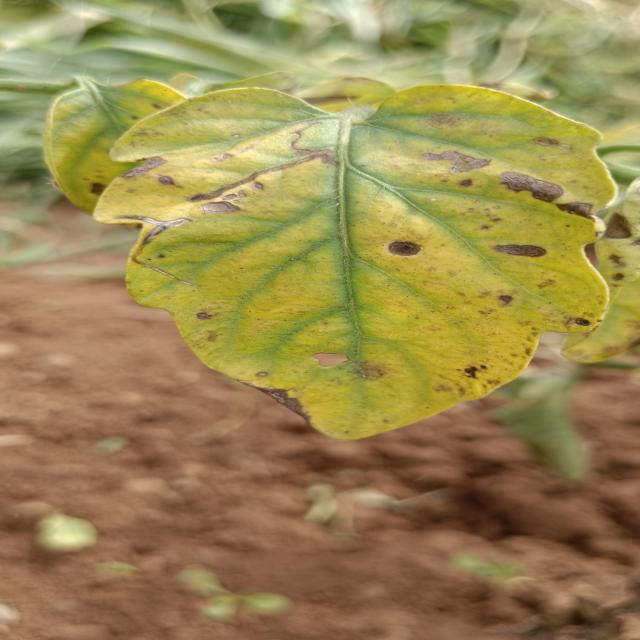tomato_early blight: (91, 84, 615, 440), (36, 80, 206, 222)
